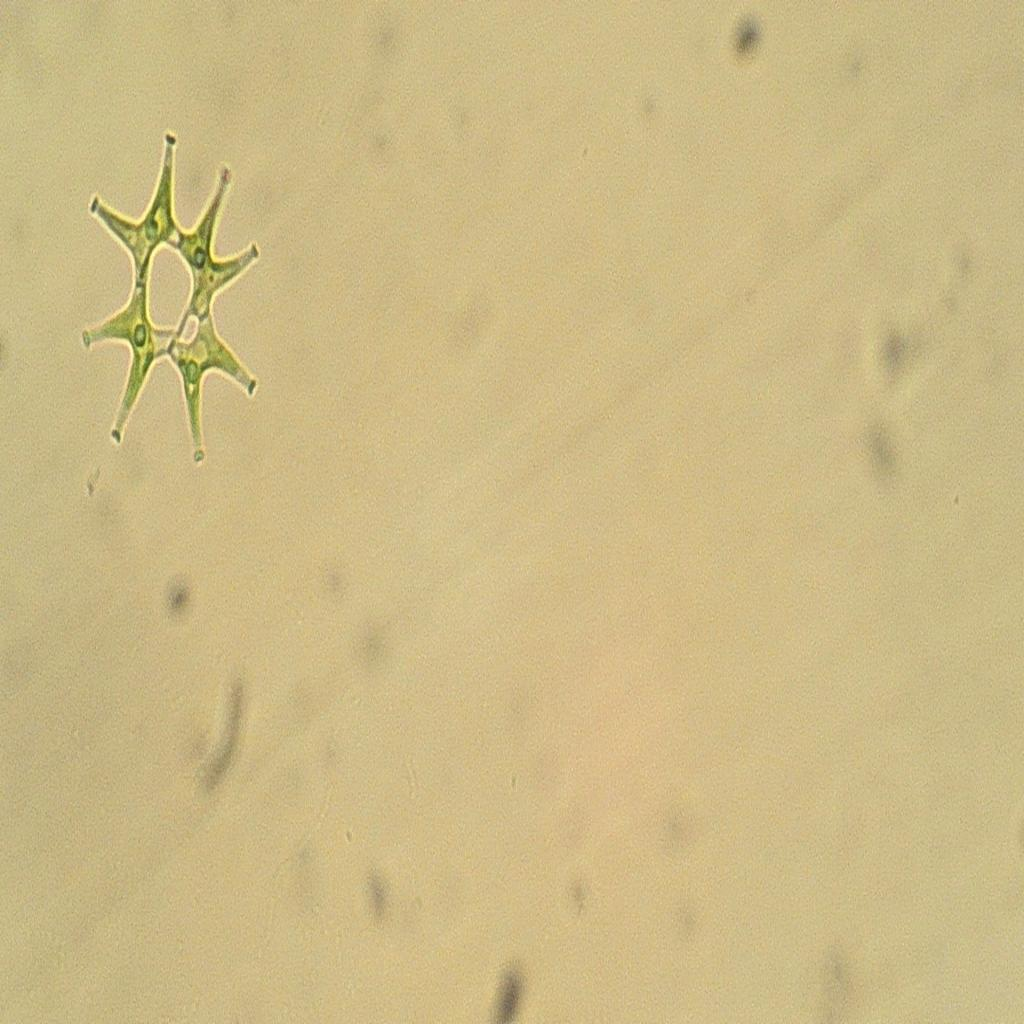Pediastrum_CF: (60, 104, 288, 490)
